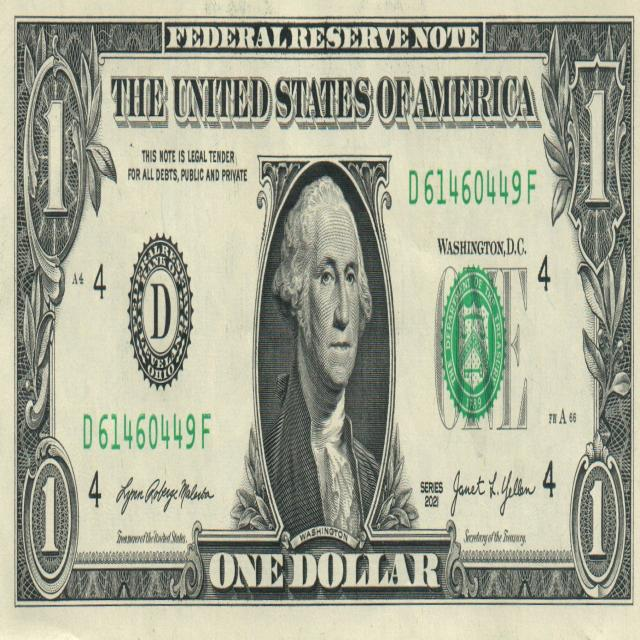SerialNumber: (84, 414, 210, 450), (409, 170, 536, 205)
